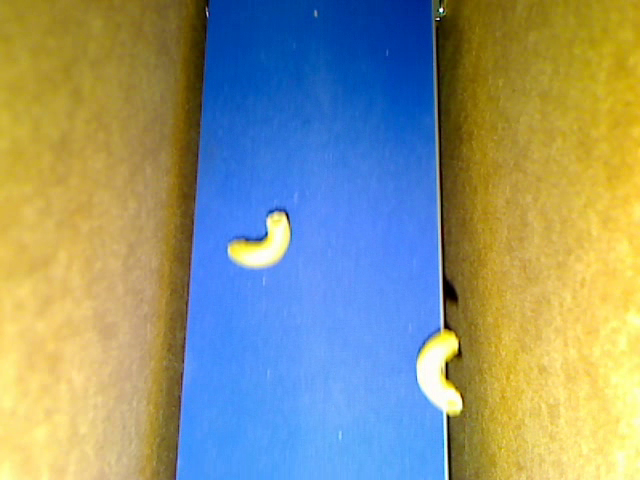elbow: (416, 329, 463, 417), (227, 208, 293, 269)
